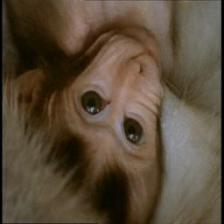monkey: (20, 22, 167, 215)
